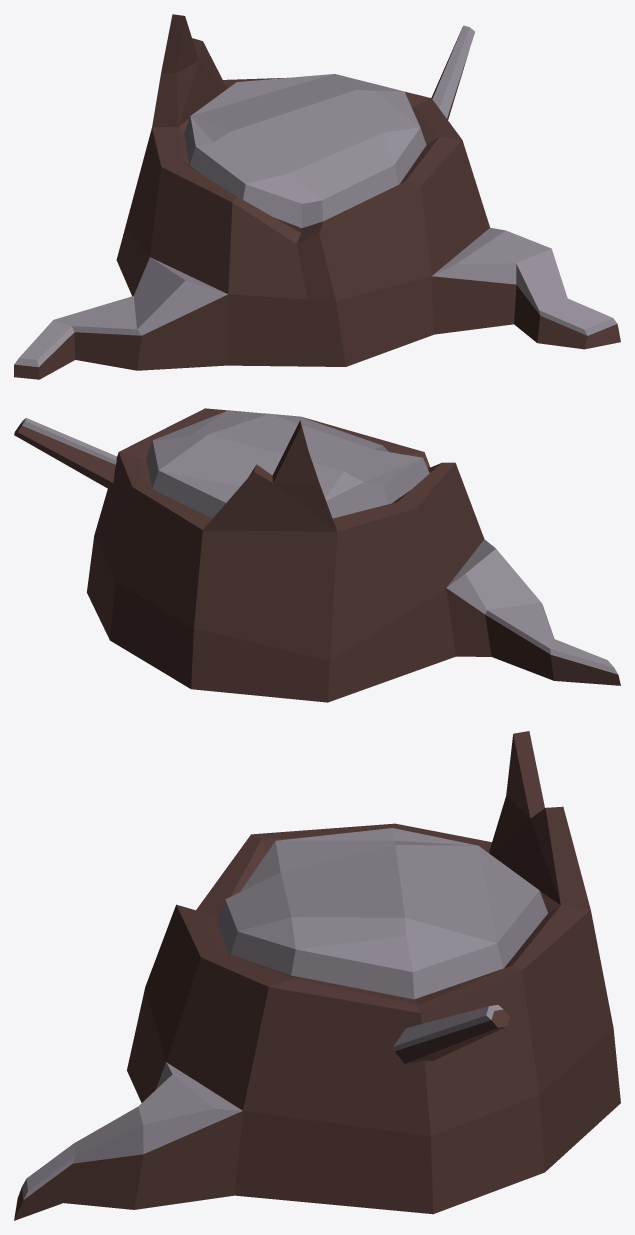
File: nat_stump_snow_1.glb
The picture shows the model from 3 angles, top to bottom: view 1: azimuth 30°, elevation 25°; view 2: azimuth 150°, elevation 25°; view 3: azimuth 270°, elevation 25°; orthographic projection. The views are drawn at different scales.
Visible parts, largest first — view 1: nat_stump_snow_1; view 2: nat_stump_snow_1; view 3: nat_stump_snow_1.
Boxes of the visible parts, <box> form: nat_stump_snow_1: <box>14,14,620,379</box>; nat_stump_snow_1: <box>14,408,620,702</box>; nat_stump_snow_1: <box>14,731,620,1220</box>.
Size of the model in its own units: 1.3 by 0.5943 by 0.9862.
